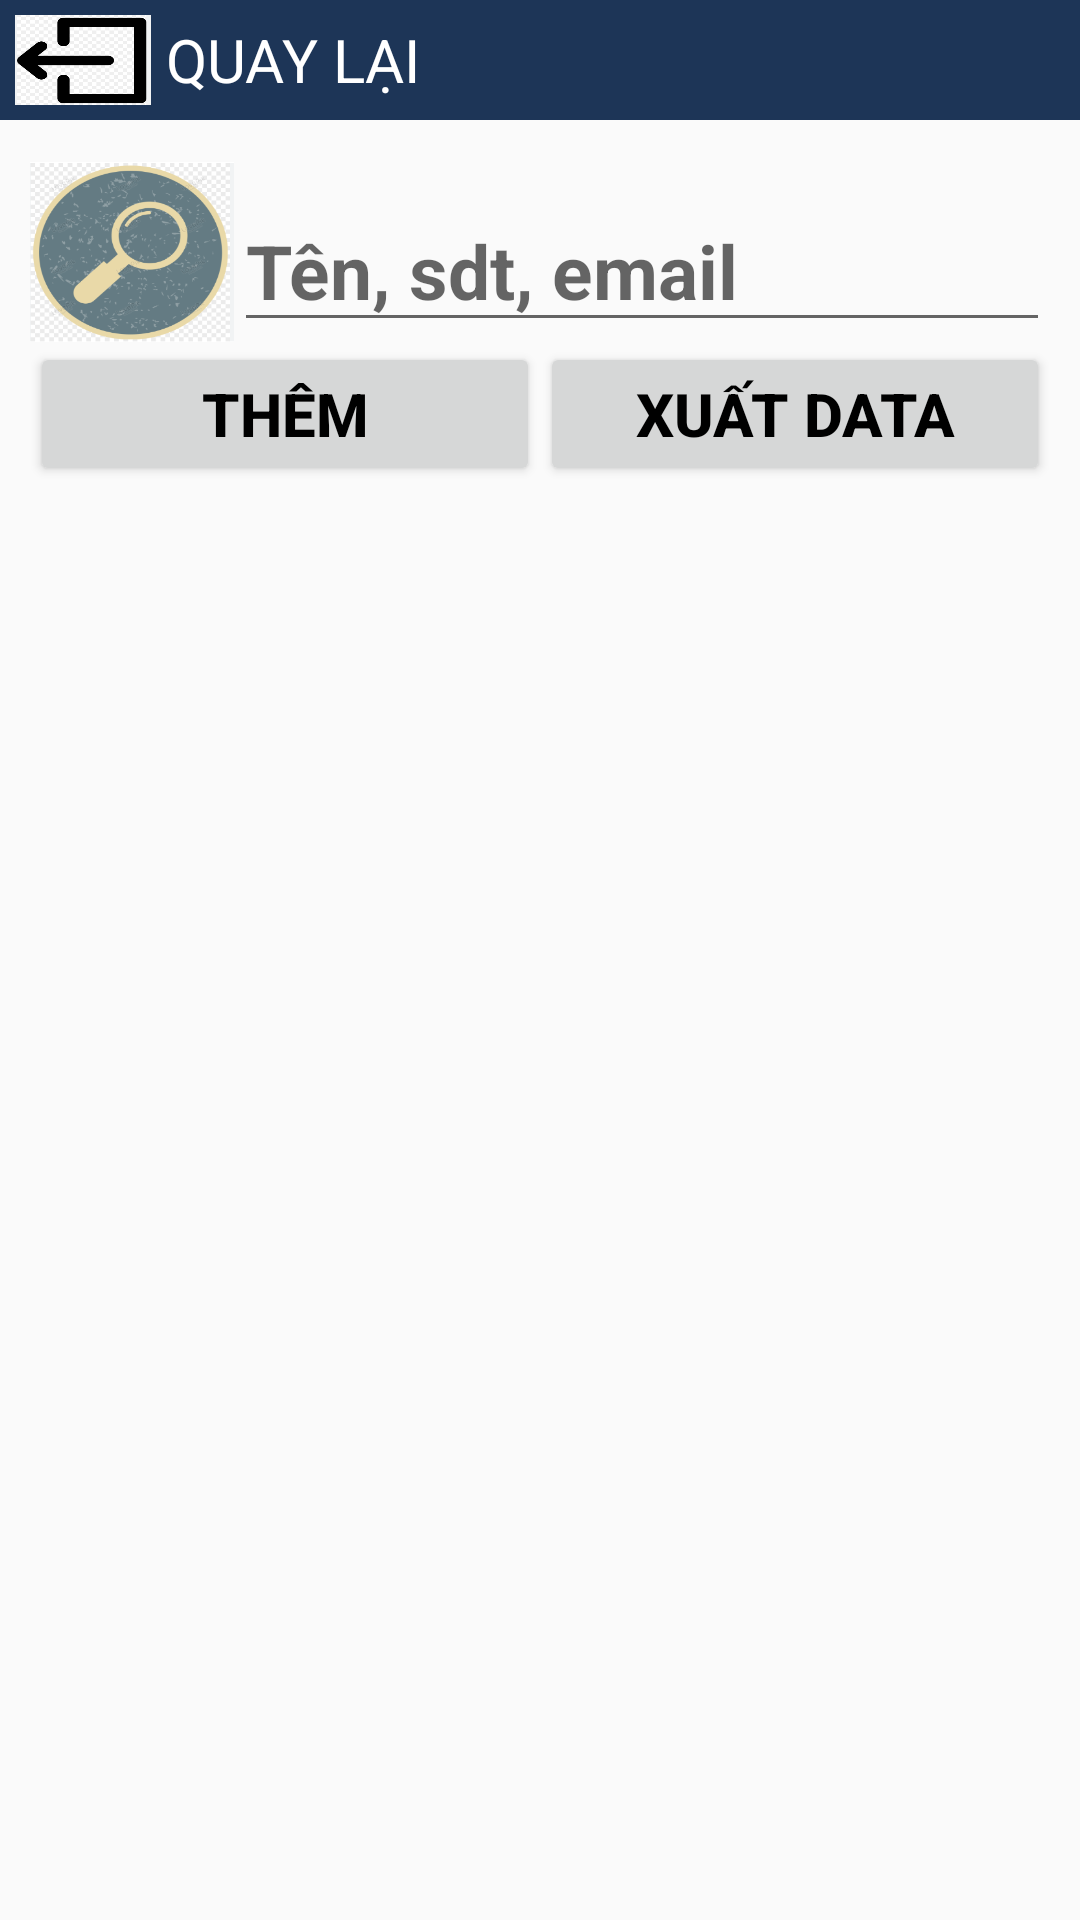

Screen size 1080 x 1920. Icon name, then its center in pixels as point (x, y):
iconexit: point (83, 60)
iconfind: point (130, 252)
